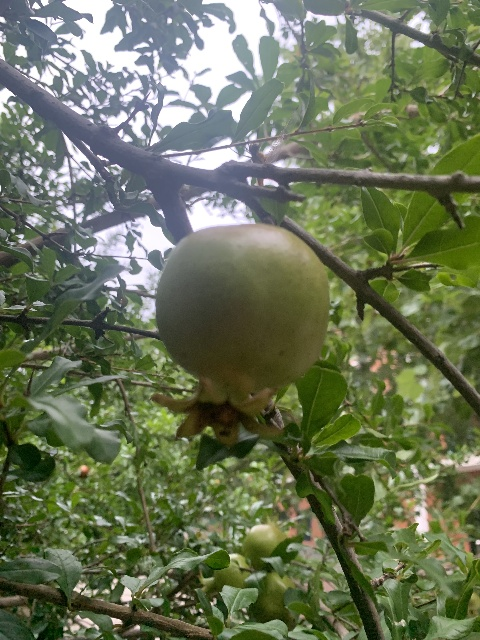mid-growth: (149, 222, 331, 446), (243, 512, 289, 571), (196, 554, 252, 602)
